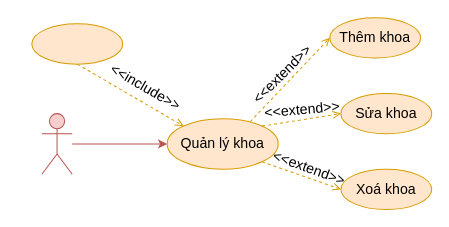
Image size: 449x227. Some labels were removed from this diagram. The shapes that lost their labels are listed below. From the top down, each one's centre as x and y in pixels, then its label:
At point (77, 43): "Đăng nhập".
At point (56, 143): "Quản trị viên".
